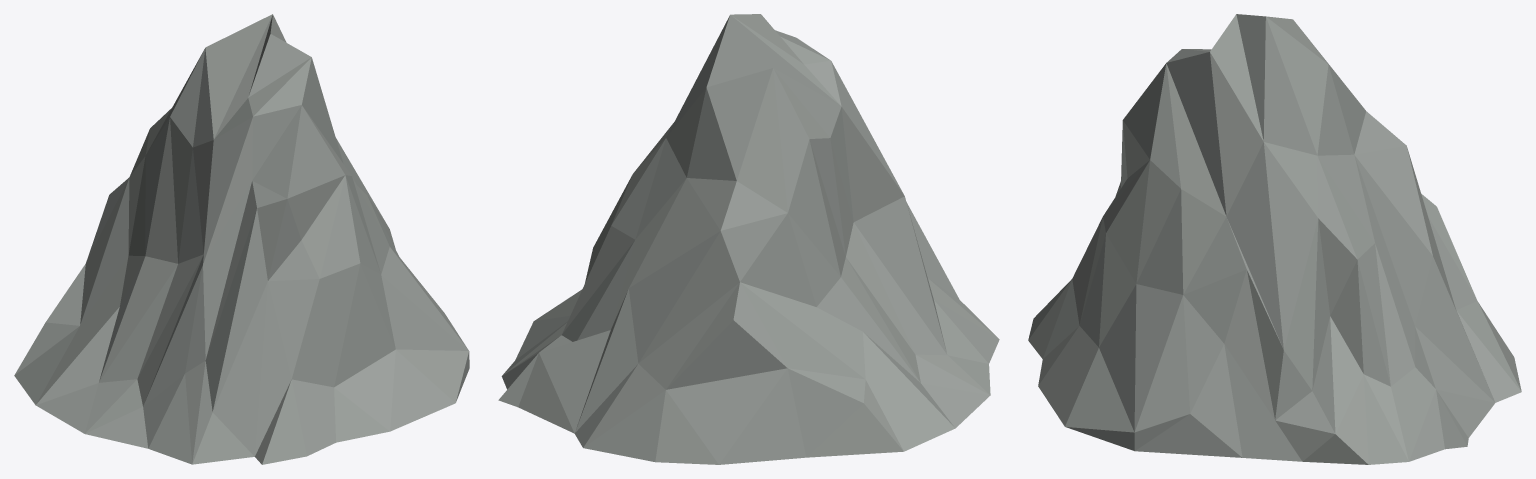
Rendered from Big_Rock_2.fbx.
3 views of the same model, side by side, from view 1: azimuth 30°, elevation 25°; view 2: azimuth 150°, elevation 25°; view 3: azimuth 270°, elevation 25° (orthographic). The views are drawn at different scales.
Parts seen in each view (by area): view 1: Big_Rock_2; view 2: Big_Rock_2; view 3: Big_Rock_2.
Part boxes in pixels (<box>): Big_Rock_2: <box>14,14,469,464</box>; Big_Rock_2: <box>498,14,999,464</box>; Big_Rock_2: <box>1028,14,1521,464</box>.
Bounding box in the file's own units: 1937 × 1621 × 1991.
1 material, 1 textured.
